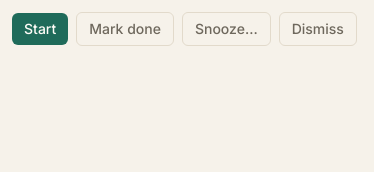
ActionStatusControls › explains until_invalid without refreshing
Click the button "Start". click: (40, 29)
box: [12,13,68,45]
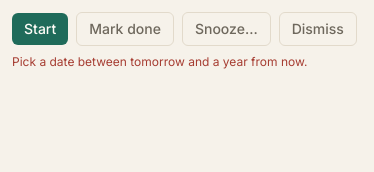
Expected: the message reads "Pick a date between tomorrow and a year from now.", [12,54,307,69]
